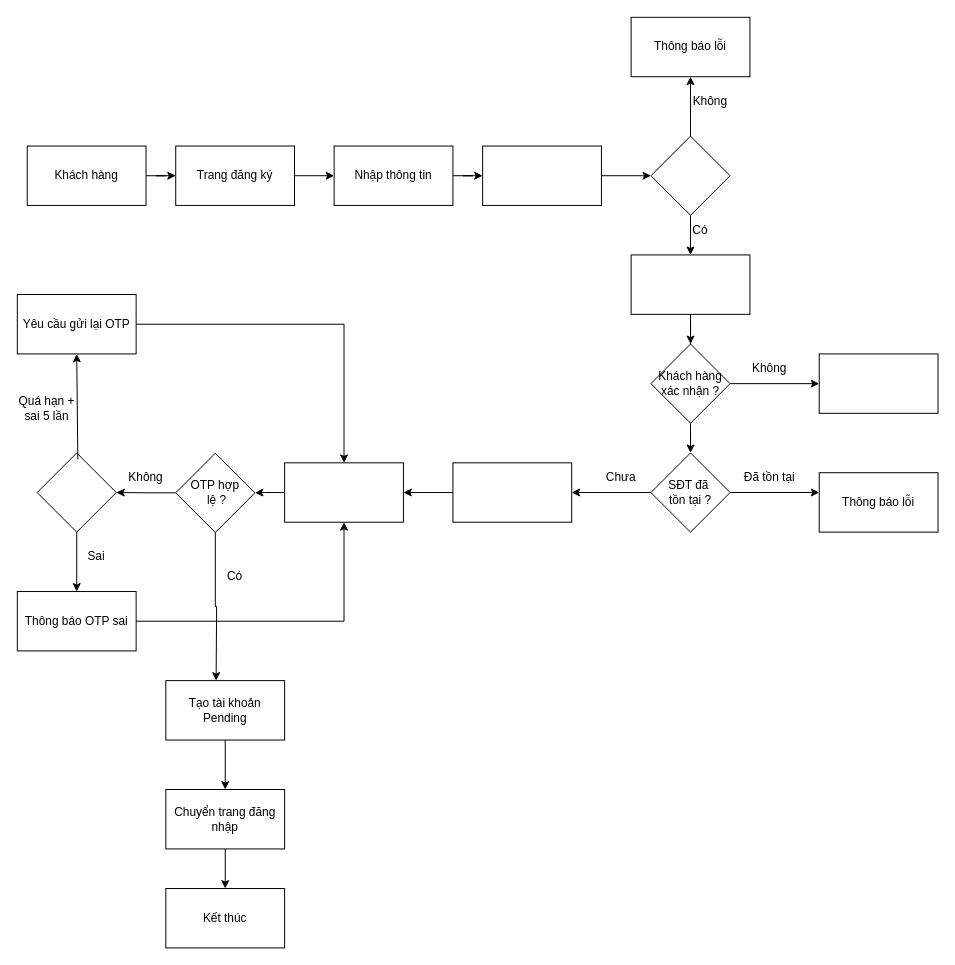
Some shapes in this 955 by 965 pixel diagram are drawn without their labels. The shapes that lost their labels are listed below. From the top down, each one's centre as x and y in pixels, then its label:
At point 541,175: "Kiểm tra dữ liệu".
At point 690,175: "Hợp lệ ?".
At point 690,284: "Hiện thông tin xác nhận".
At point 878,383: "Quay lại chỉnh sửa".
At point 76,492: "Sai hay quá hạn ?".
At point 343,492: "Nhập OTP".
At point 512,492: "Tạo và gửi OTP".
